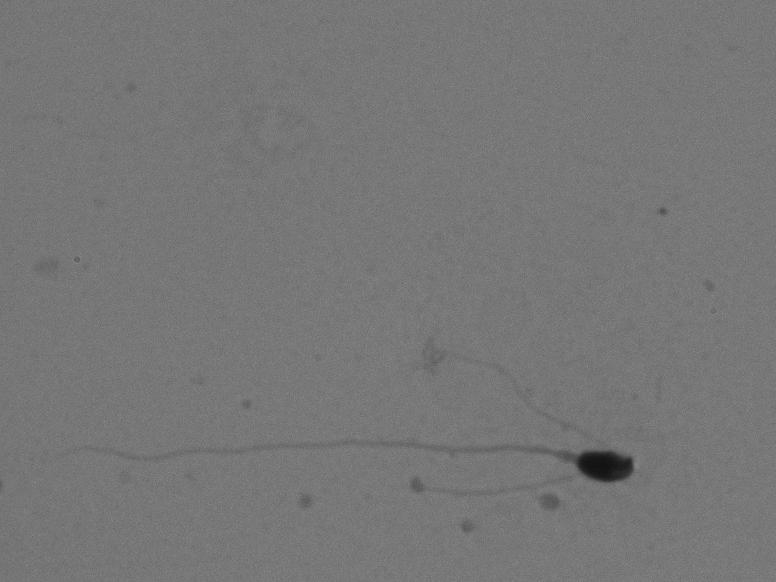Abnormal: (28, 391, 662, 505)
